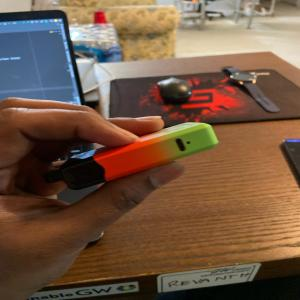Swift-E-Ciggirate: (42, 122, 221, 196)
